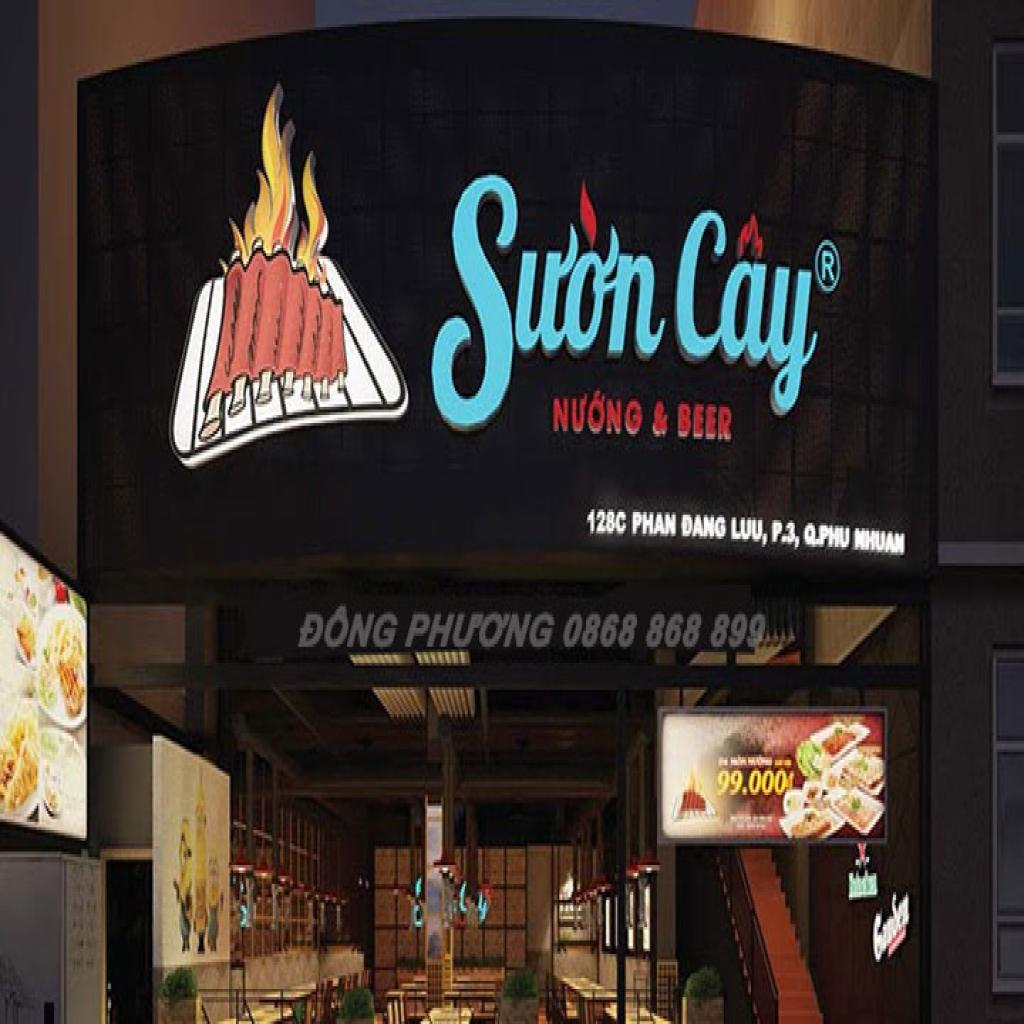text: (424, 164, 674, 448), (673, 186, 822, 431), (559, 612, 774, 655), (402, 604, 560, 654), (296, 604, 405, 658), (554, 380, 644, 442), (677, 393, 735, 450), (712, 768, 798, 800), (852, 523, 907, 563), (583, 502, 630, 544), (631, 504, 680, 542), (804, 518, 854, 555), (681, 510, 730, 544), (730, 512, 770, 552), (771, 518, 803, 555), (650, 398, 673, 444), (819, 248, 838, 286)
